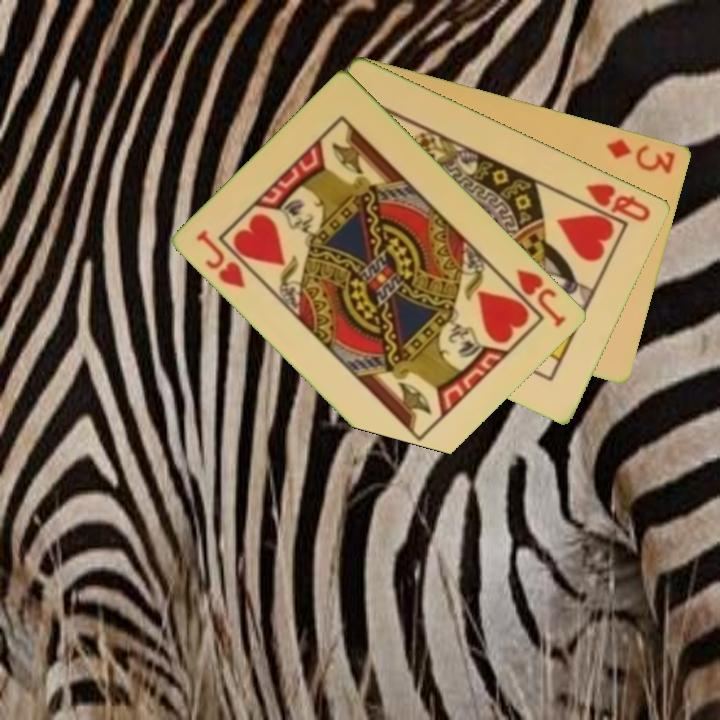3d: (603, 135, 679, 177)
Jh: (499, 265, 569, 331), (193, 226, 249, 292)
Qh: (583, 179, 654, 225)
